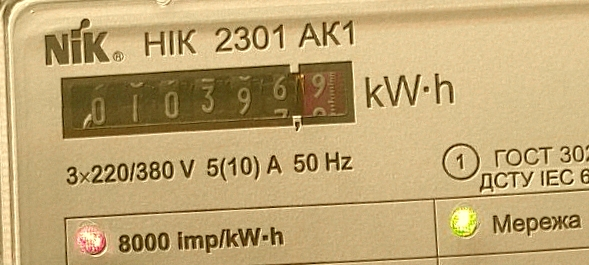0: (158, 86, 183, 121), (85, 92, 108, 127)
1: (126, 90, 142, 123)
3: (197, 82, 218, 116)
6: (267, 72, 291, 102)
9: (231, 83, 254, 117), (305, 70, 329, 102)
screen: (42, 41, 368, 160)
